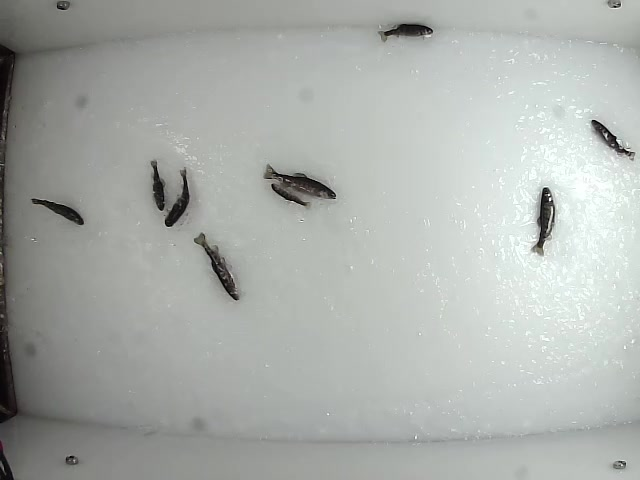fish: (191, 231, 239, 303), (261, 162, 340, 201), (527, 186, 557, 258), (589, 118, 635, 161), (162, 166, 192, 229), (30, 195, 85, 227), (377, 21, 437, 43), (269, 183, 314, 211), (149, 159, 167, 214)
